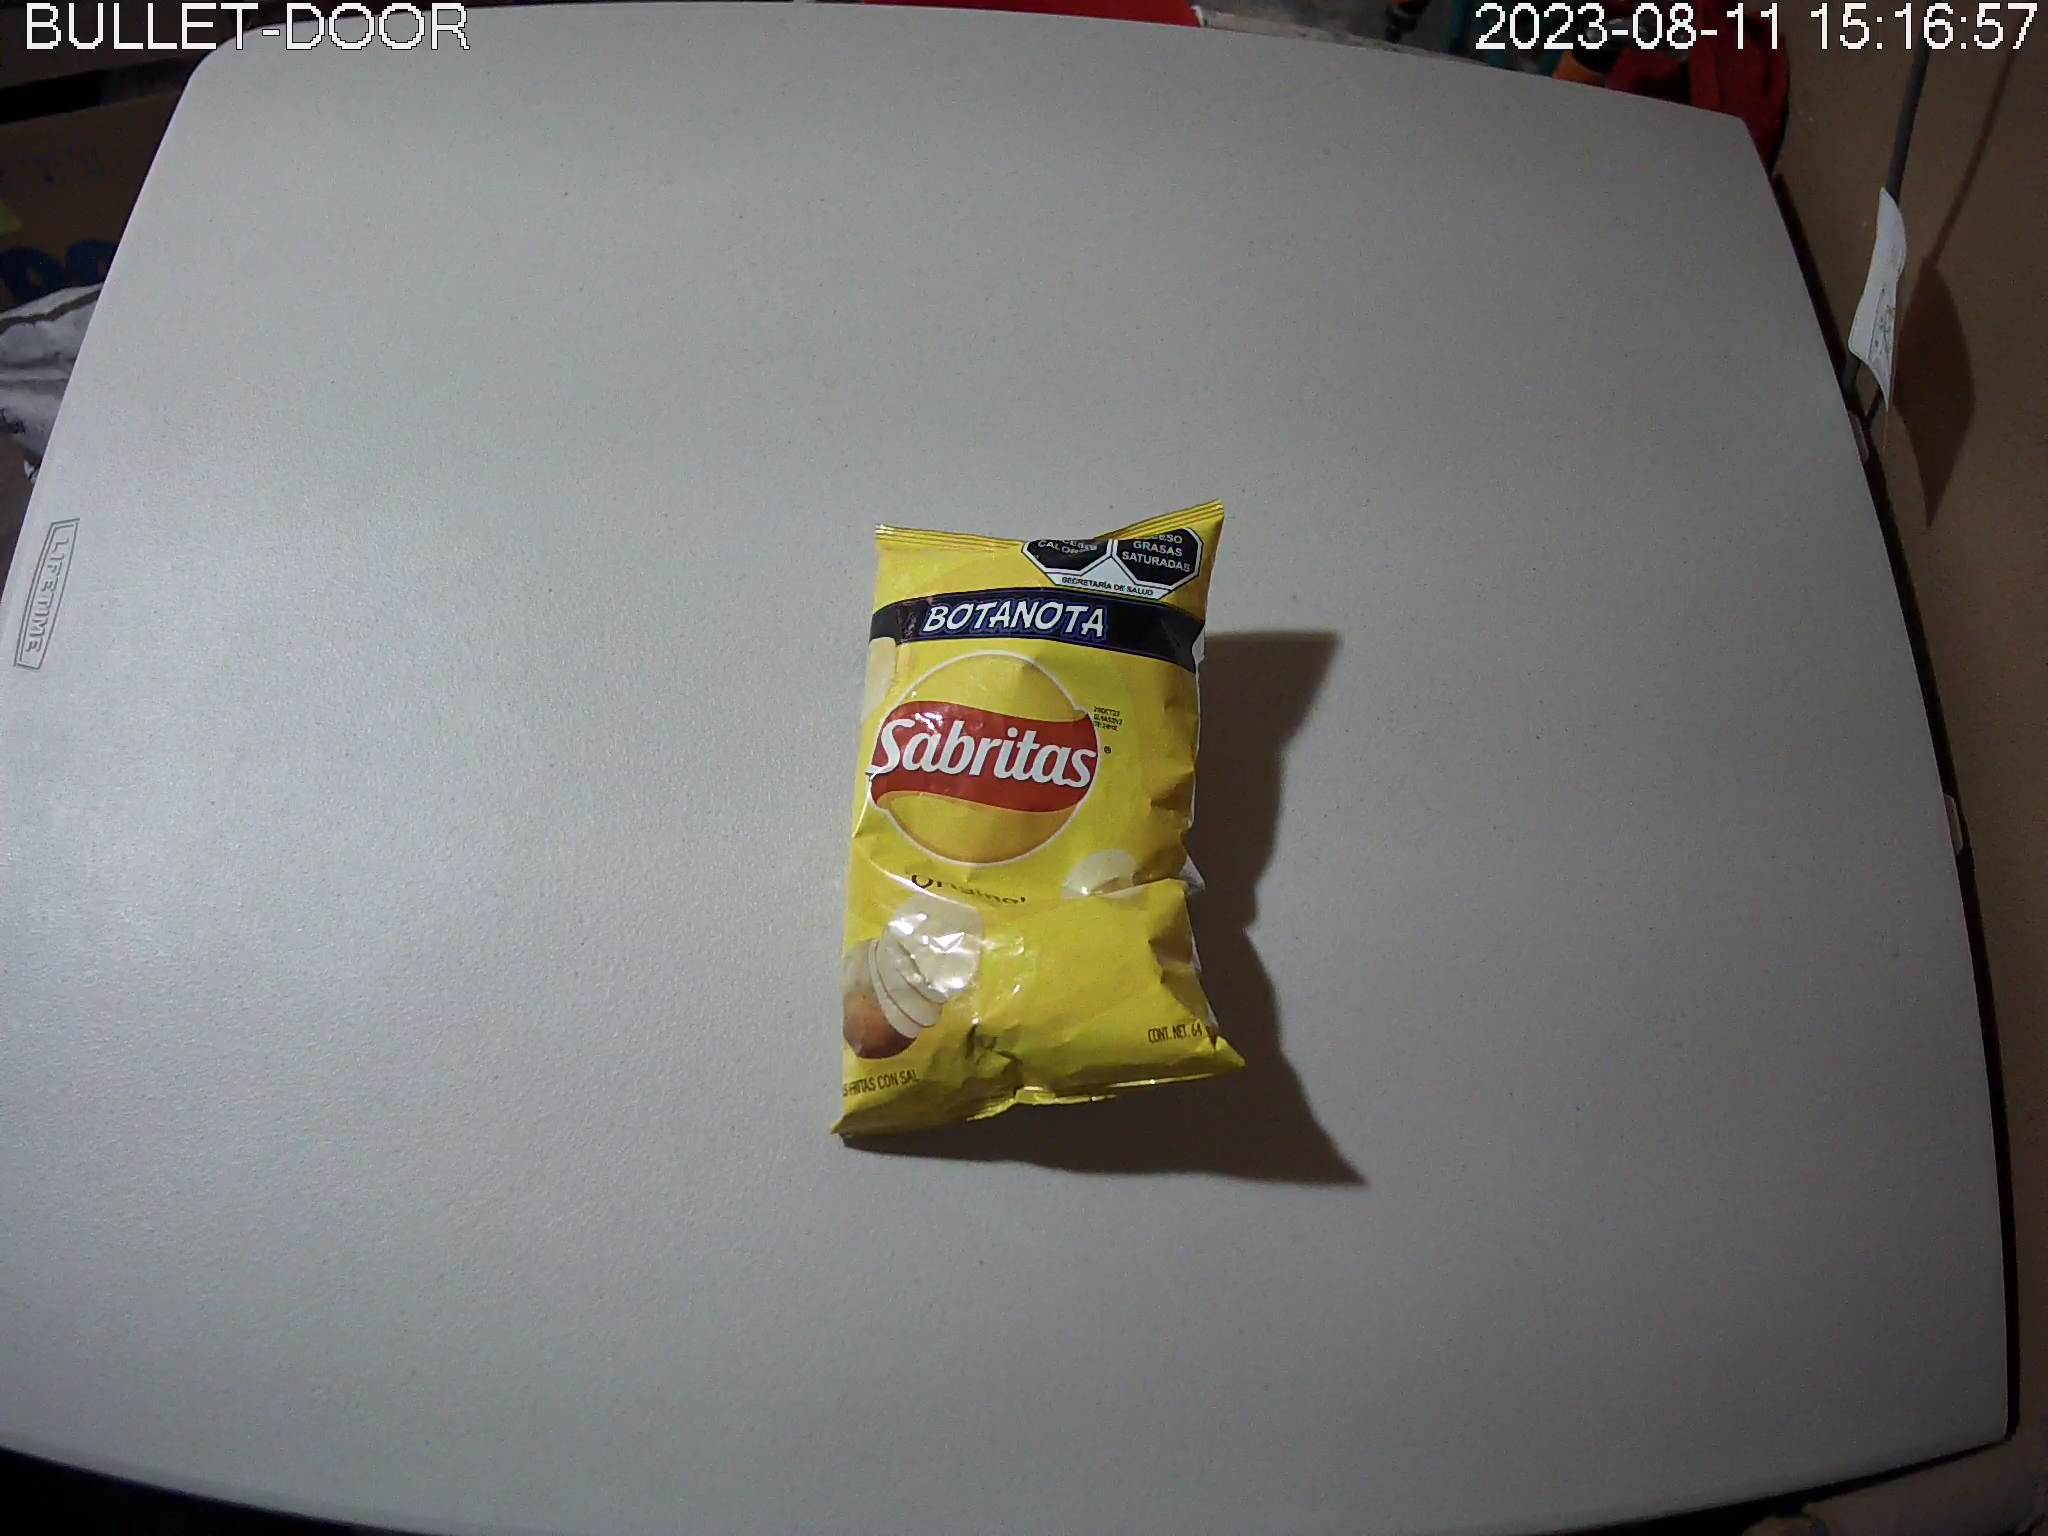Sabritas_64_F: (830, 494, 1250, 1141)
